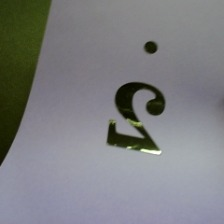violet2: (101, 36, 170, 158)
